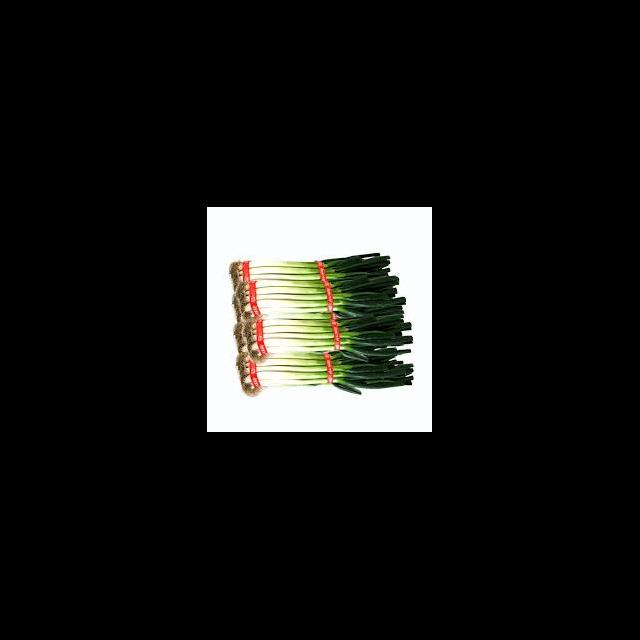green_onion: (237, 351, 418, 394), (236, 280, 404, 316), (240, 318, 416, 350)
